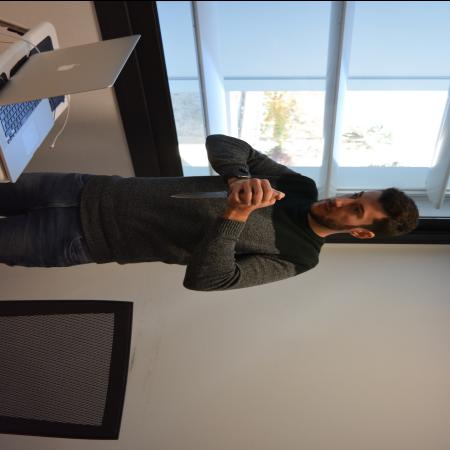long weapon: (168, 188, 236, 202)
